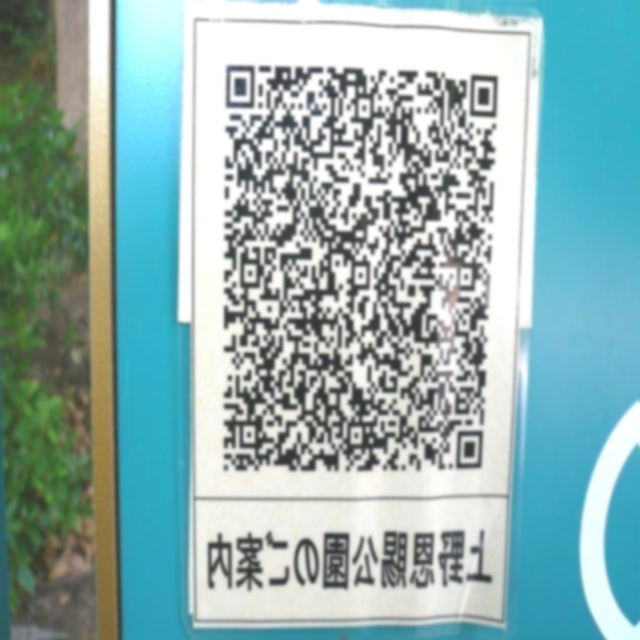qr-code: (220, 65, 498, 475)
